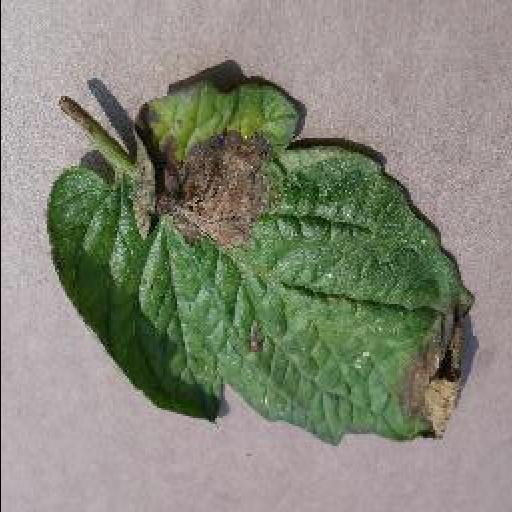disease_tomato: (45, 82, 479, 442)
